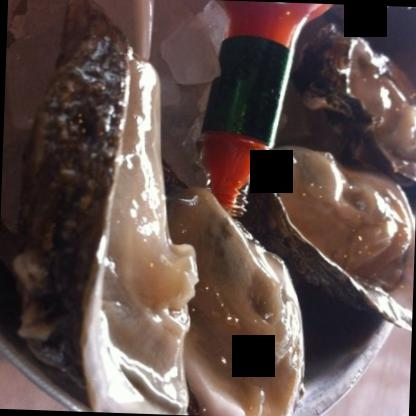oyster: (10, 21, 204, 415), (177, 188, 313, 415), (257, 142, 415, 325), (288, 26, 415, 189)
